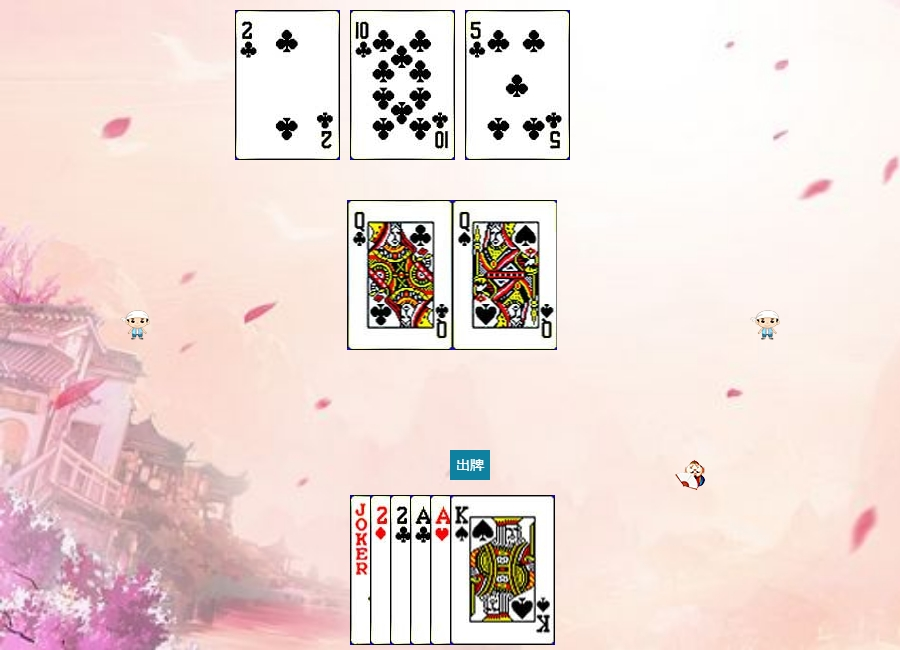10~2: (350, 10, 455, 160)
12~2: (348, 200, 453, 350)
12~4: (453, 200, 558, 350)
13~4: (450, 495, 555, 645)
14~2: (410, 495, 515, 645)
14~3: (430, 495, 535, 645)
15~1: (370, 495, 475, 645)
15~2: (235, 10, 340, 160), (390, 495, 495, 645)
18~4: (350, 495, 455, 645)
5~2: (465, 10, 570, 160)
